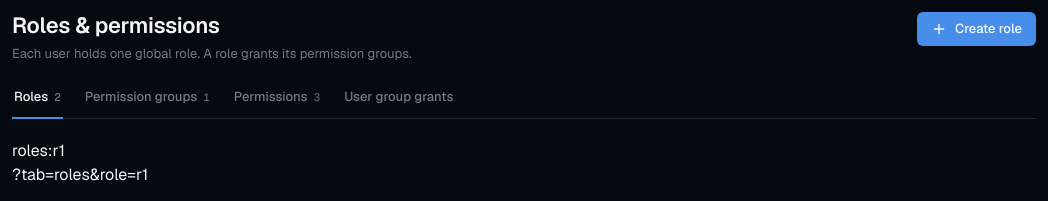
PermissionManagementPage › updates the URL when switching tabs and clears item selection
Expected: the text with test id "panel" reads "roles:r1", [12,140,65,160]
Click the tab "Permission groups 1": (147, 103) [83,87,212,118]
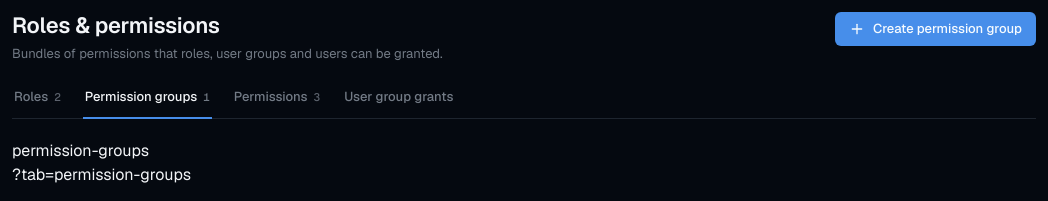
Expected: the text with test id "panel" reads "permission-groups", [12,140,149,160]
Expected: the text with test id "location" reads "?tab=permission-groups", [12,164,191,184]
